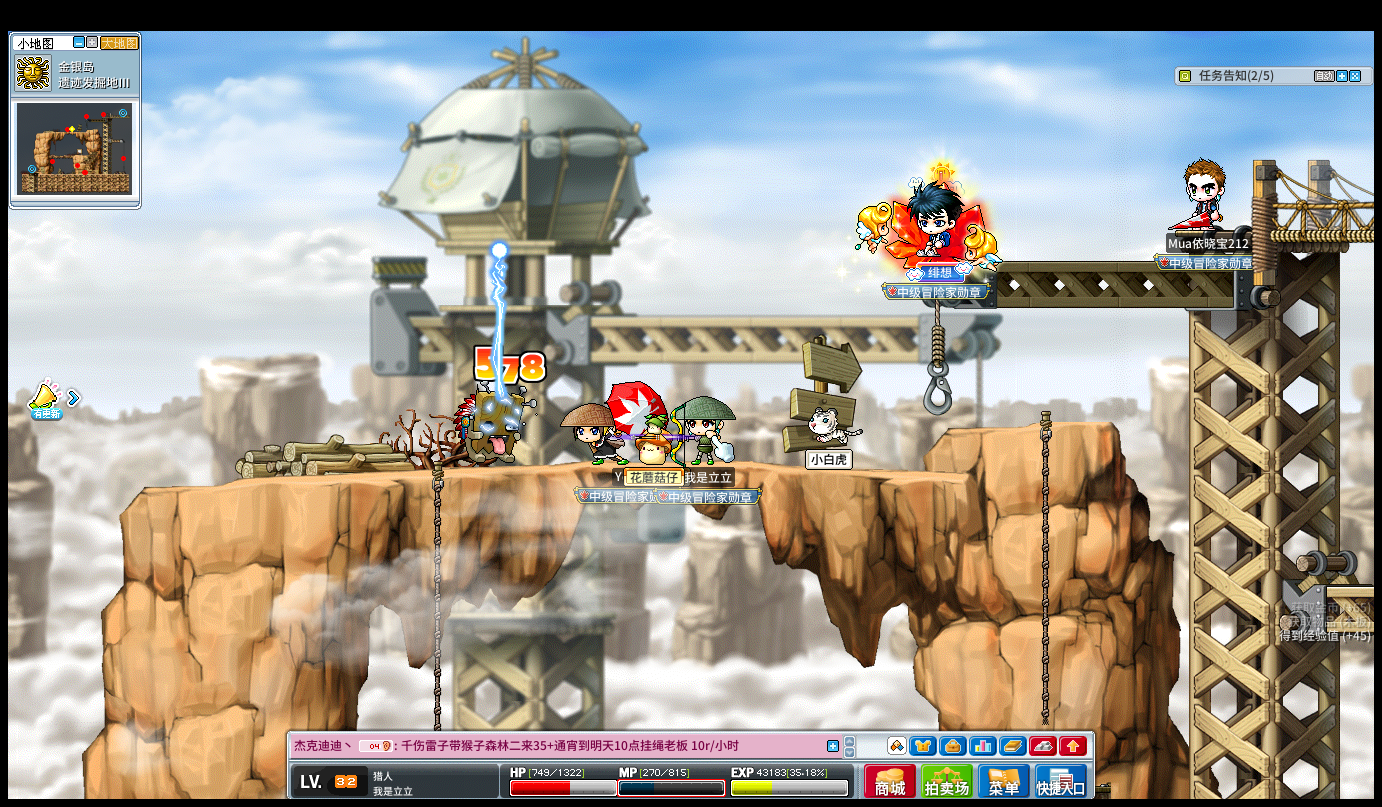floor: (121, 455, 992, 483), (951, 418, 1119, 433), (1324, 583, 1377, 595)
monster: (452, 377, 530, 468)
rope: (427, 456, 443, 794), (1037, 408, 1052, 723), (430, 455, 444, 694)
